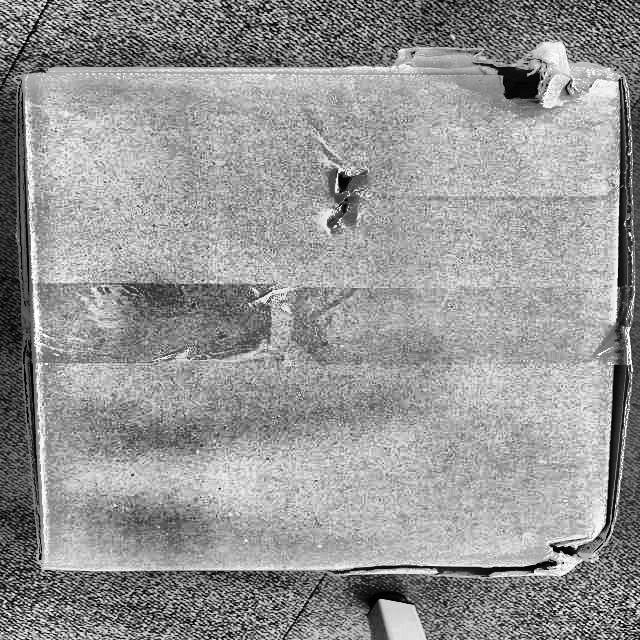box: (8, 26, 639, 583)
hole: (321, 531, 605, 581), (465, 55, 621, 111), (314, 166, 374, 232)
